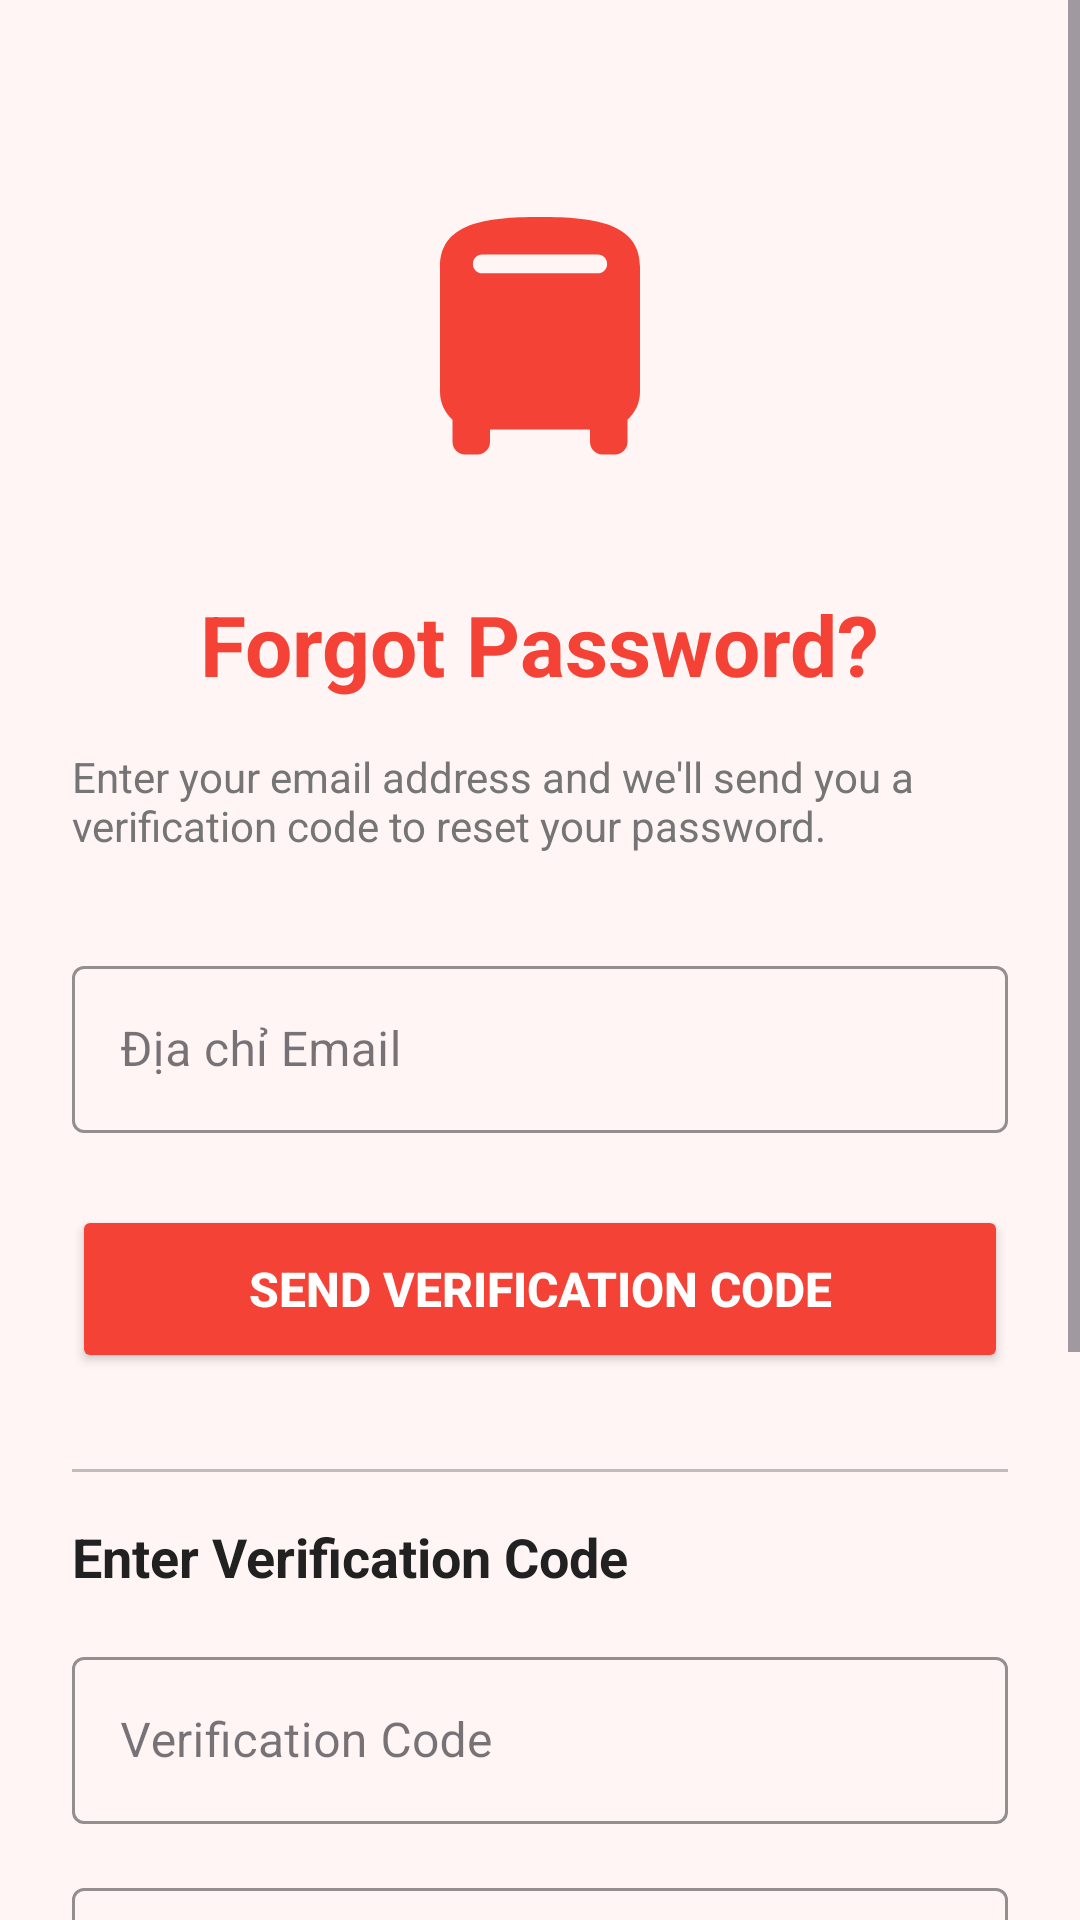

Where icons sit on this 1080x1920 app screen, as (x1, y1, x2, y2):
Bus Icon: (440, 217, 640, 455)
